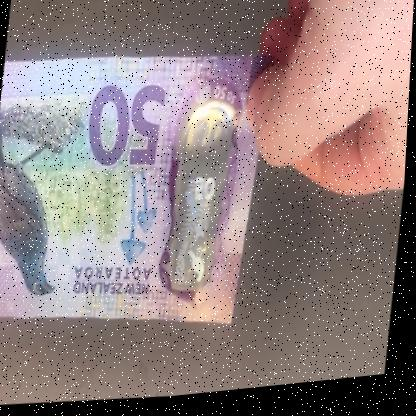50B: (171, 105, 231, 298)
